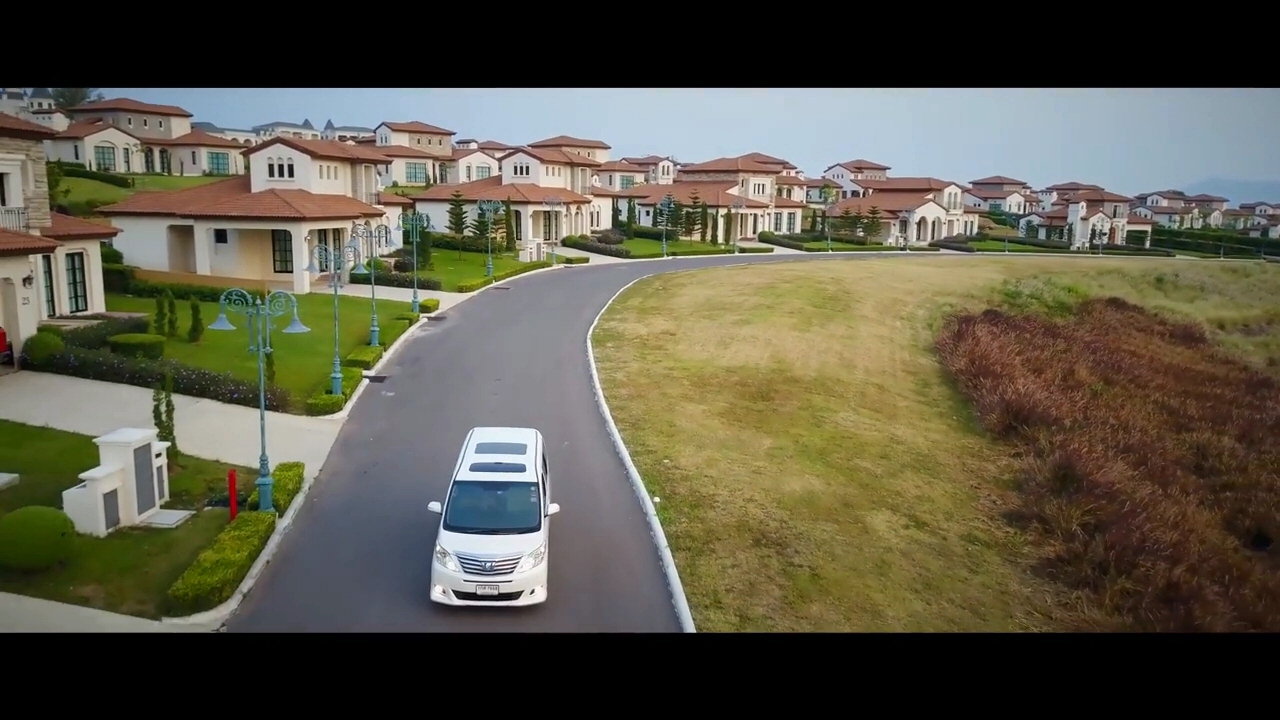araba: (427, 424, 556, 610)
